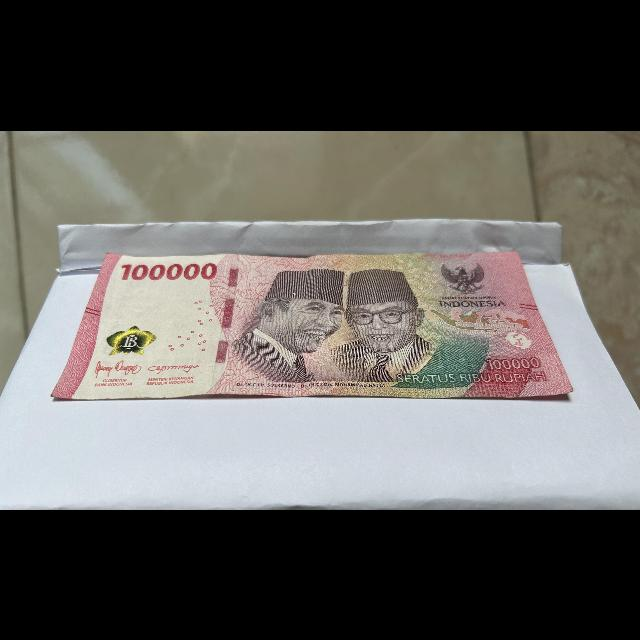Asli-100k: (46, 246, 581, 401)
Tinta-Asli-100k: (100, 324, 160, 355)
